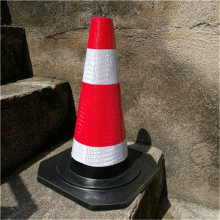traffic_cone: (41, 11, 166, 211)
